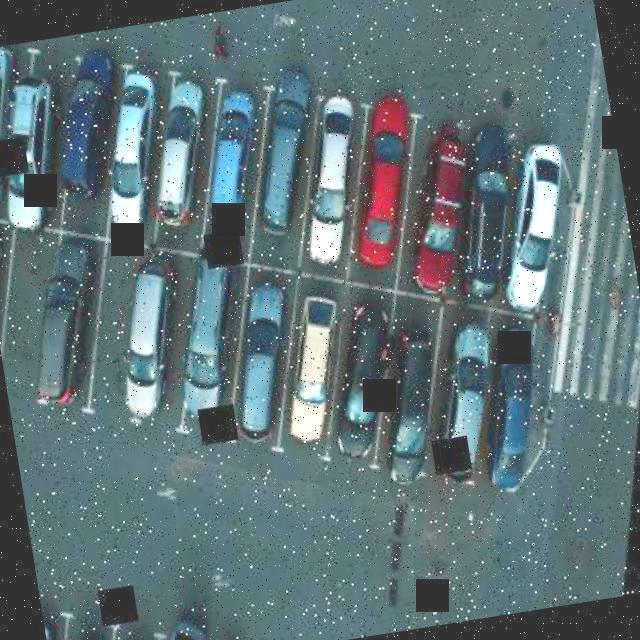space-empty: (65, 254, 161, 428), (0, 233, 80, 409)
space-occupied: (474, 114, 613, 339), (266, 66, 401, 289), (375, 93, 506, 317), (318, 71, 448, 284), (304, 281, 431, 499), (220, 45, 345, 265), (425, 110, 552, 319), (406, 310, 528, 520), (199, 264, 315, 472), (252, 278, 371, 479), (452, 316, 572, 513), (353, 309, 469, 501), (79, 61, 191, 255), (16, 231, 127, 420), (96, 256, 207, 445), (157, 246, 265, 438), (34, 27, 149, 202), (127, 66, 231, 244), (180, 76, 283, 245), (0, 64, 86, 249), (0, 212, 37, 396), (0, 45, 37, 208), (161, 591, 226, 640), (40, 595, 67, 640)
